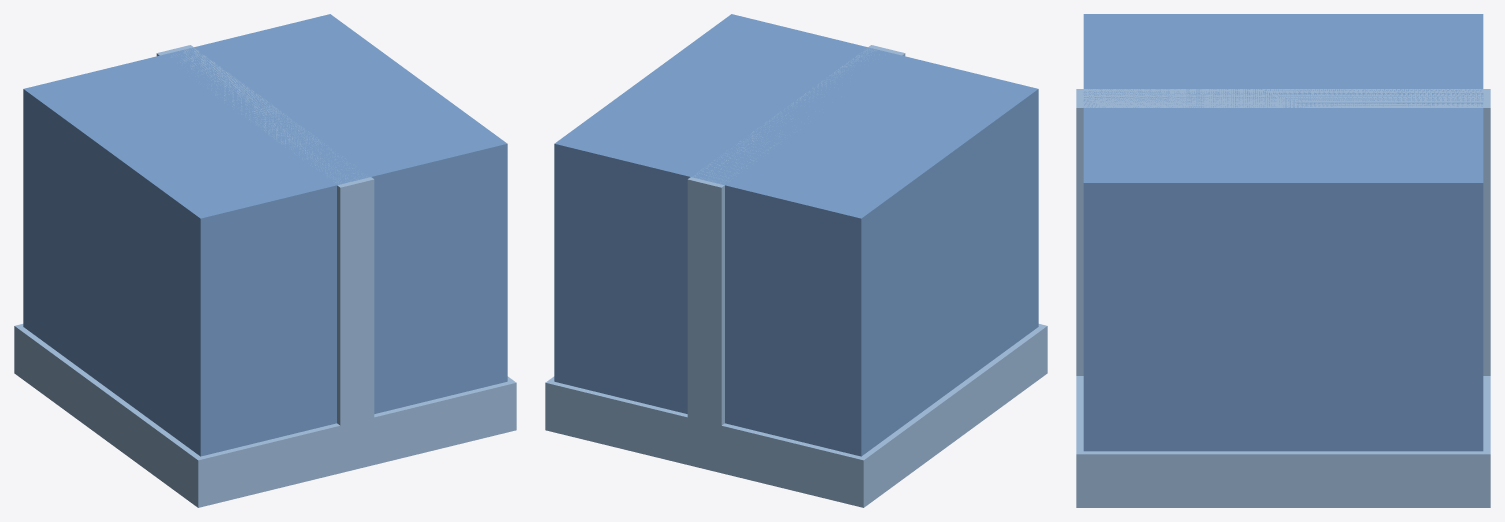
File: tee_estrela_coxa.glb
3 renders of one model, left to right at view 1: azimuth 30°, elevation 25°; view 2: azimuth 150°, elevation 25°; view 3: azimuth 270°, elevation 25°, orthographic. The views are drawn at different scales.
Parts seen in each view (by area): view 1: tee_estrela_coxa; view 2: tee_estrela_coxa; view 3: tee_estrela_coxa.
Boxes of the visible parts, left/top/right/bottom form: tee_estrela_coxa: left=14, top=14, right=516, bottom=507; tee_estrela_coxa: left=545, top=14, right=1047, bottom=507; tee_estrela_coxa: left=1076, top=14, right=1490, bottom=507.
Bounding box in the file's own units: 0.28 × 0.24 × 0.28.
